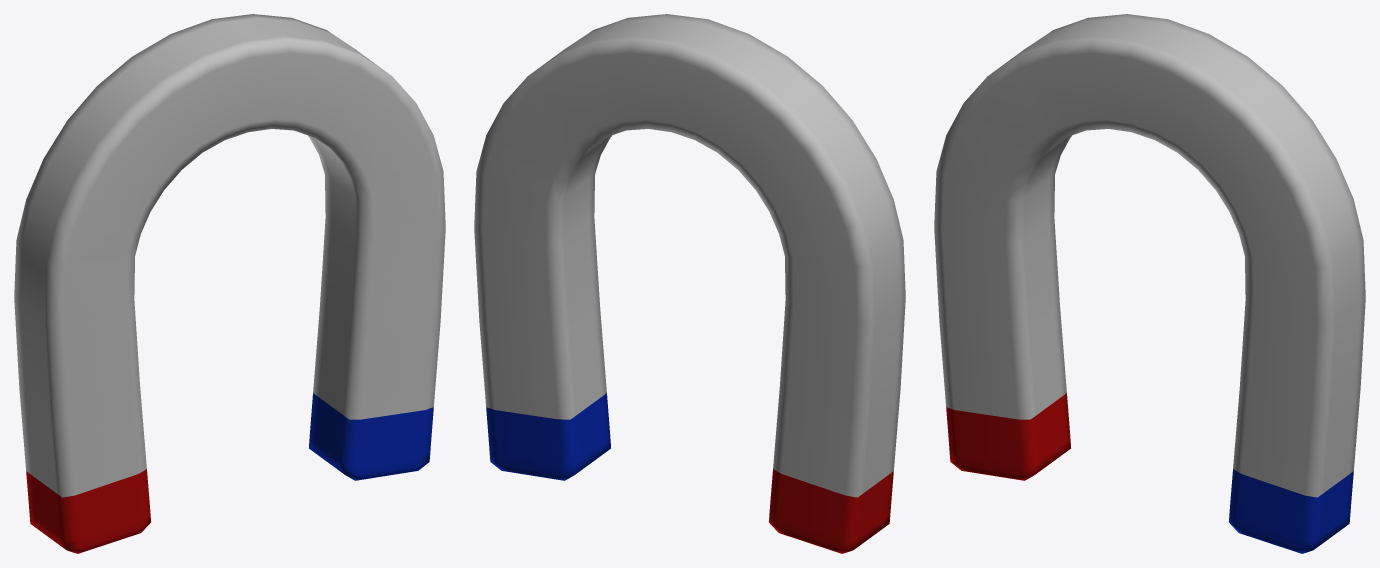
The model's file is U_Magnet.fbx.
3 renders of one model, left to right at view 1: azimuth 30°, elevation 25°; view 2: azimuth 150°, elevation 25°; view 3: azimuth 330°, elevation 25°, orthographic.
Parts seen in each view (by area): view 1: pCube6; view 2: pCube6; view 3: pCube6.
Boxes of the visible parts, box(x1,y1,x2,y2) form: pCube6: box(14, 14, 445, 553); pCube6: box(474, 14, 905, 553); pCube6: box(934, 14, 1365, 553).
Size of the model in its own units: 5.14 by 5.8 by 0.9061.
